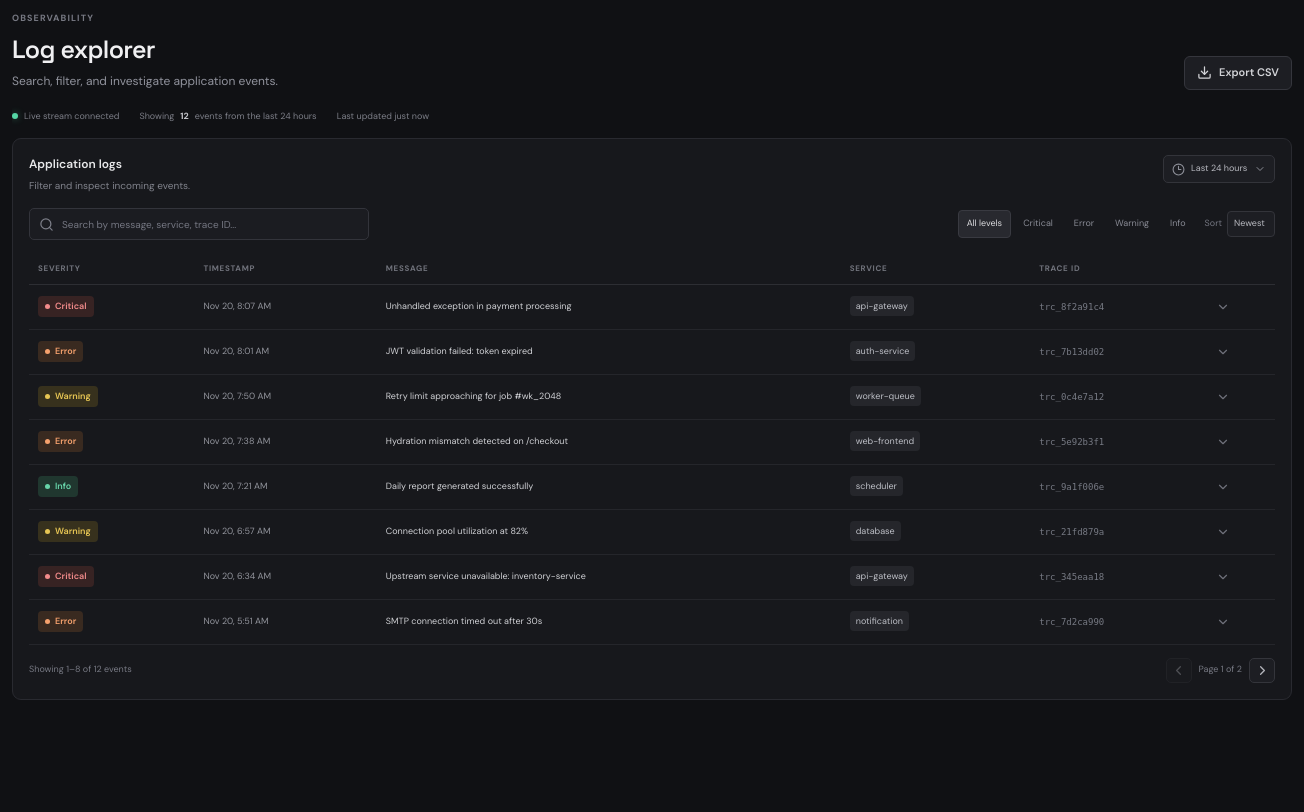
Scenario: troubleshooting workspace › filters logs by severity and keyword
Expected: the text "Unhandled exception in payment processing" is shown, [377,284,841,329]
Click the button "Warning" at (1132, 224), box [1106,210,1158,238]
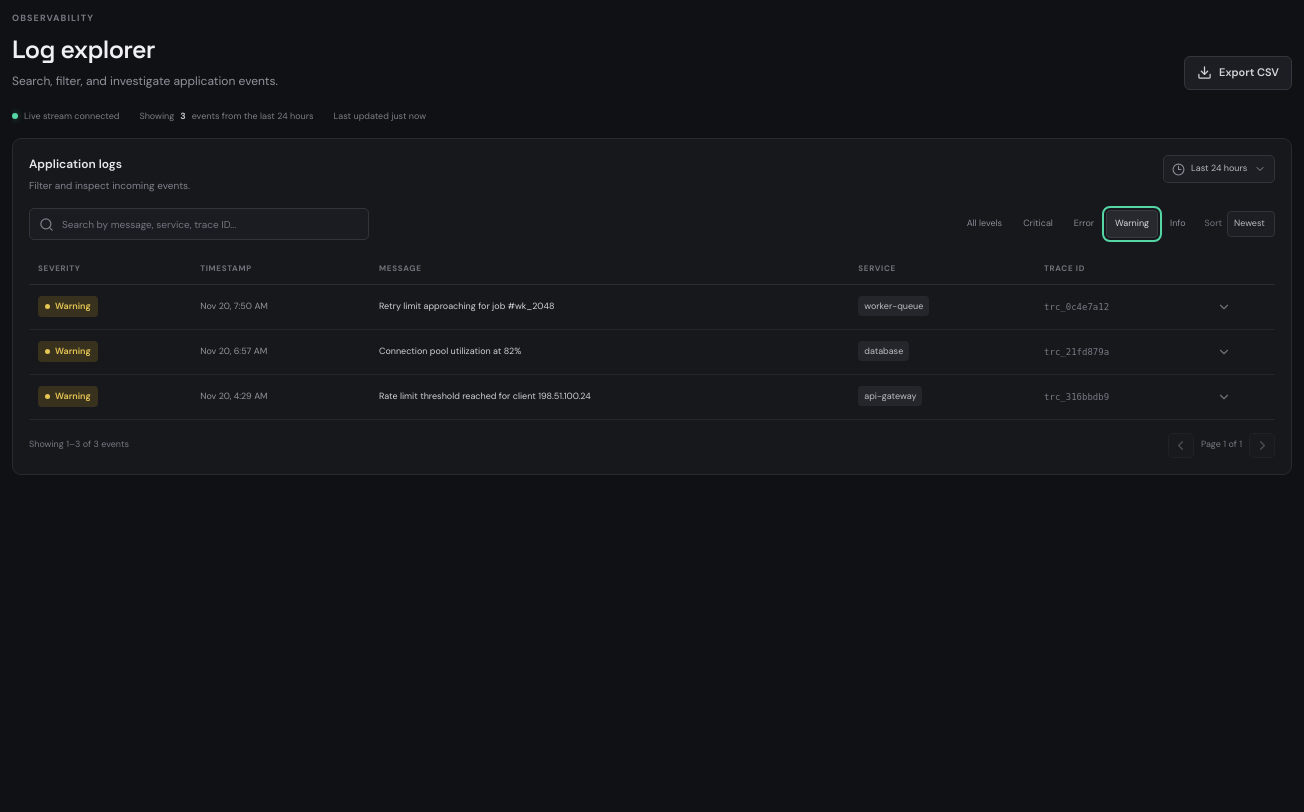
Expected: the text "Retry limit approaching for job #wk_2048" is shown, [370,284,849,329]
Result: the text "Unhandled exception in payment processing" is gone
Type "worker-queue" into the field named "Search logs" at (210, 224), box [62,216,359,232]
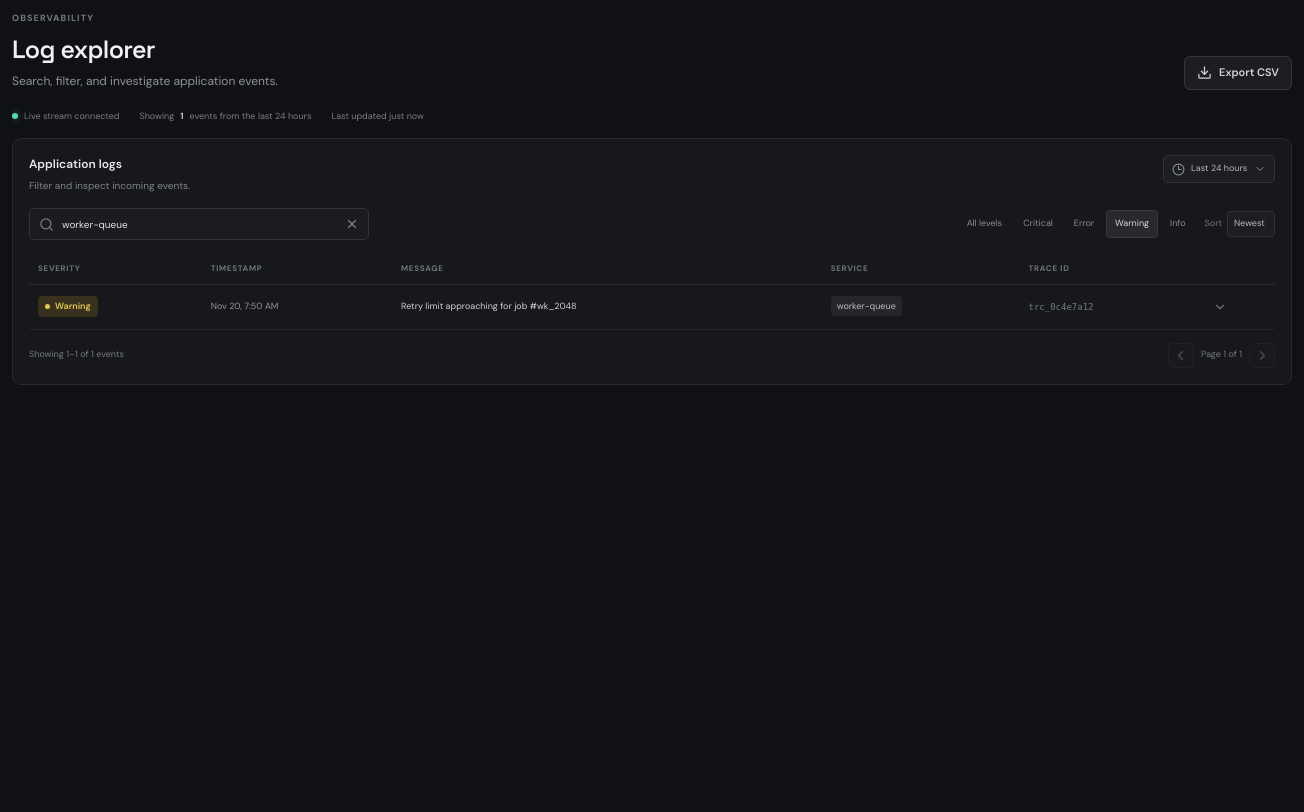
Expected: the text "Retry limit approaching for job #wk_2048" is shown, [392,284,822,329]
Result: the text "Connection pool utilization at 82%" is gone
